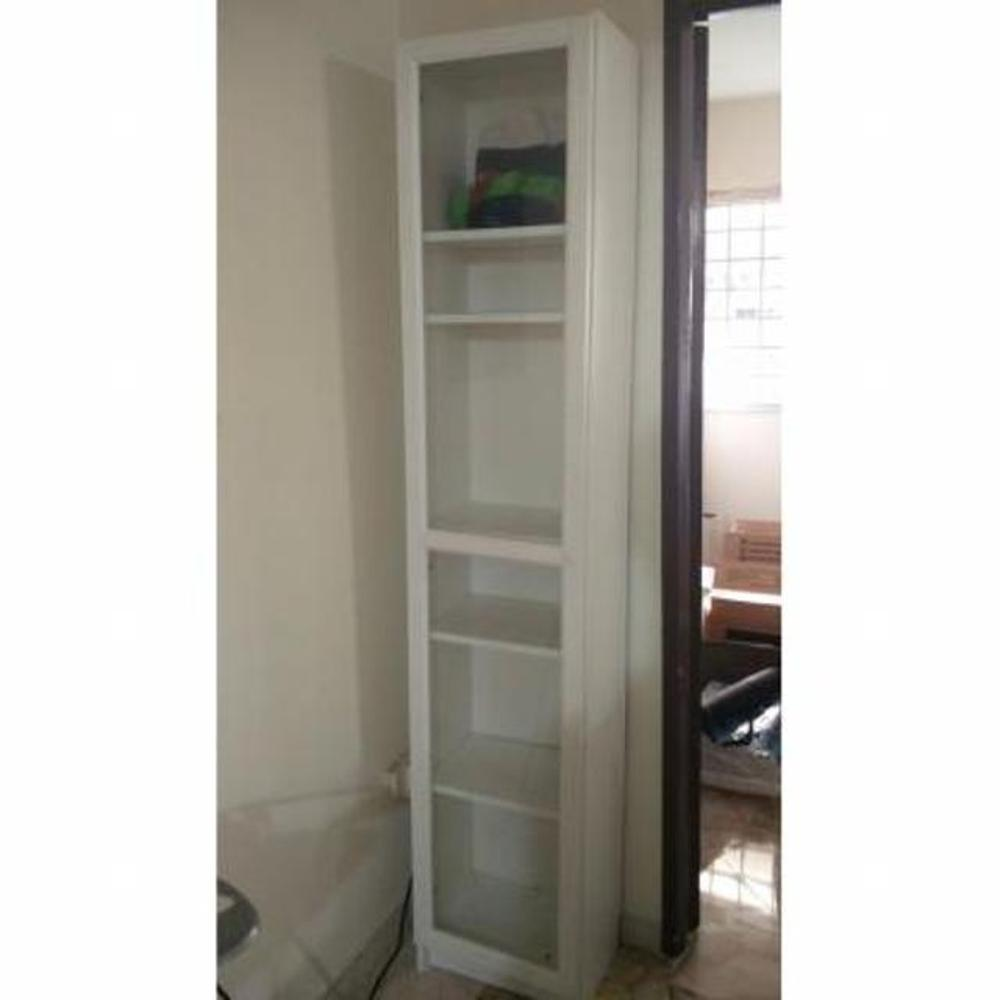lamp: (398, 8, 645, 999)
